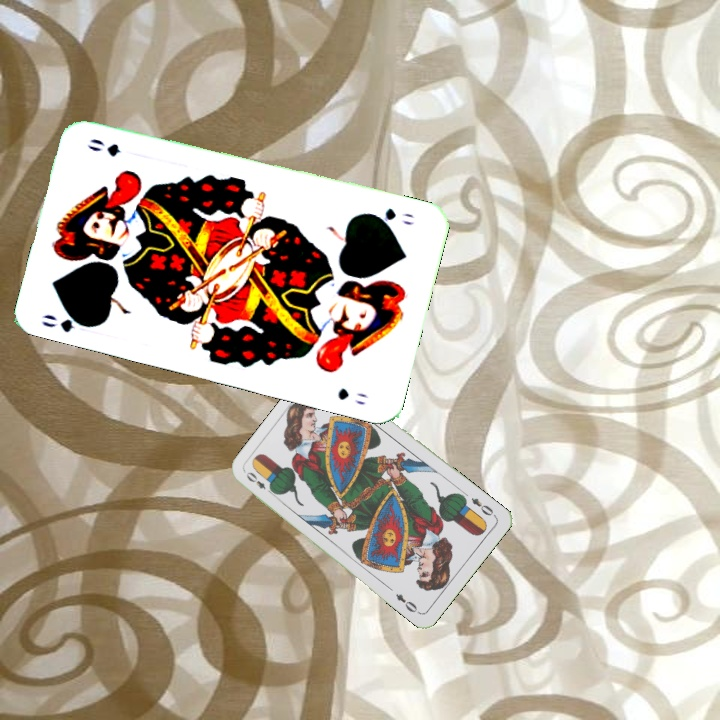EO: (242, 468, 277, 498), (467, 493, 498, 519)
GO: (38, 307, 97, 335), (364, 204, 417, 228)
